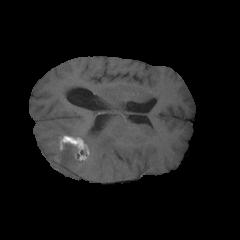glioma: (41, 126, 156, 177)
